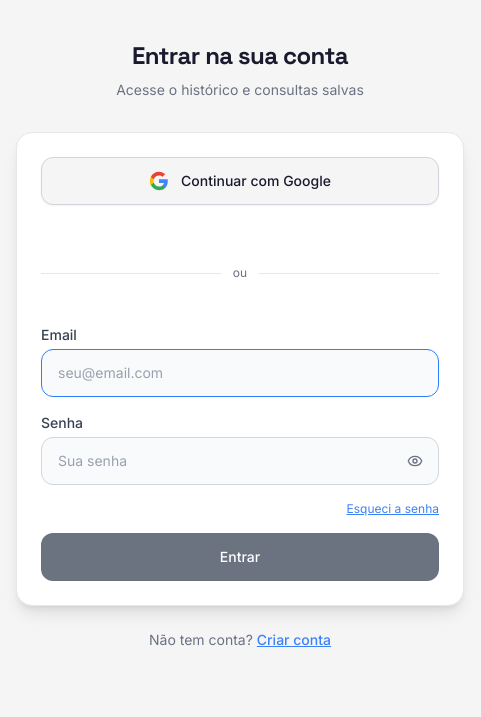
LoginForm › Error Messages (Task 7.5) › shows Portuguese error for invalid_credentials
Type "test@example.com" into the field labelled "Email" at (240, 373), box [41,349,439,397]
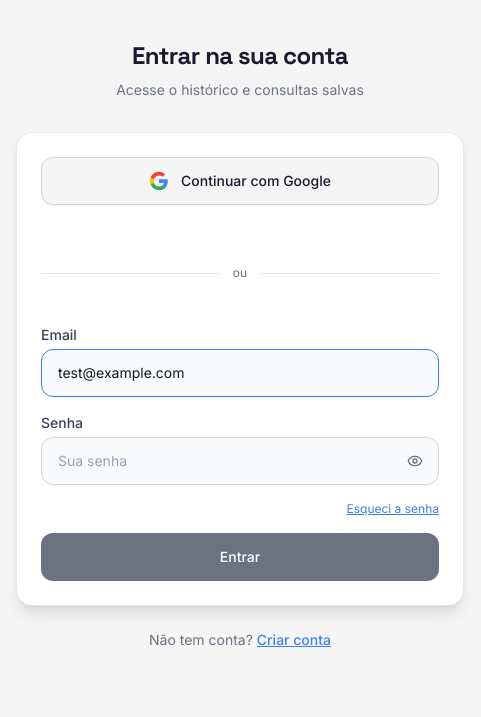
Type "wrongpass" into the password field with id "login-password" at (240, 461), box [41,437,439,485]
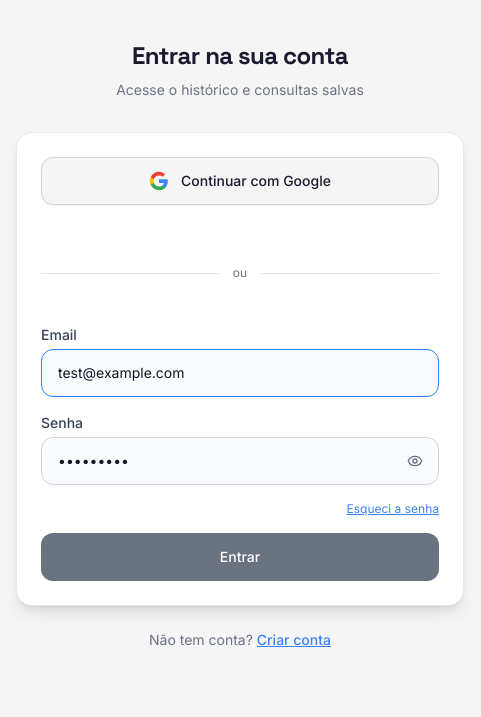
Click the button "Entrar" at (240, 557), box [41,533,439,581]
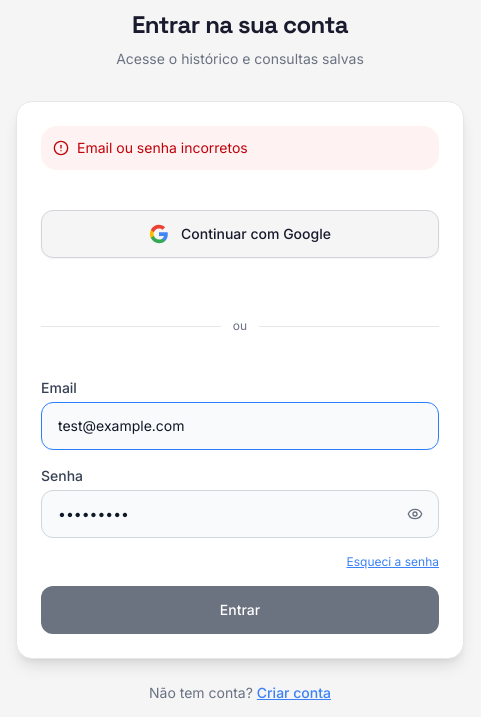
Result: the text "Email ou senha incorretos" is shown at [77,138,248,158]
